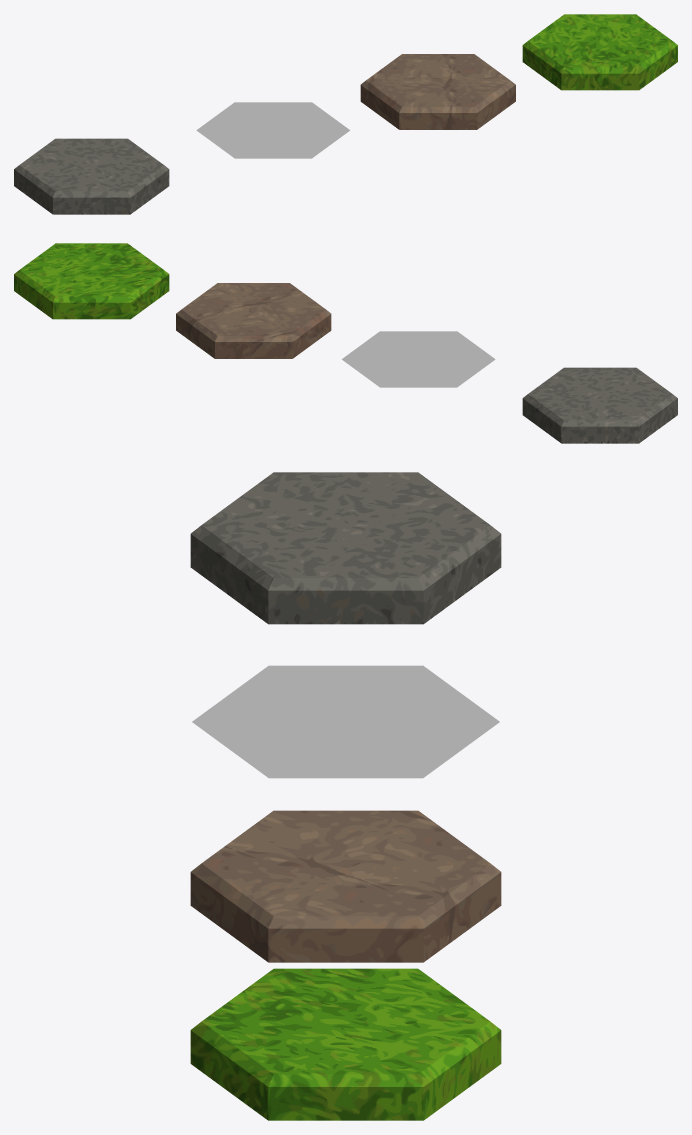
File: Hexagon Var 2 Atlas.fbx
3 renders of one model, top to bottom at view 1: azimuth 30°, elevation 25°; view 2: azimuth 150°, elevation 25°; view 3: azimuth 270°, elevation 25°, orthographic. The views are drawn at different scales.
Parts seen in each view (by area): view 1: H7, H8, H5, H6; view 2: H7, H8, H5, H6; view 3: H5, H7, H8, H6.
Part boxes in pixels (<box>): H7: <box>14,138,169,214</box>; H8: <box>522,14,677,90</box>; H5: <box>360,54,515,129</box>; H6: <box>196,102,349,158</box>; H7: <box>522,367,677,443</box>; H8: <box>14,243,169,319</box>; H5: <box>176,283,331,358</box>; H6: <box>342,331,495,387</box>; H5: <box>190,810,501,962</box>; H7: <box>190,472,501,624</box>; H8: <box>190,968,501,1120</box>; H6: <box>192,665,499,778</box>.
Size of the model in its own units: 929 by 30 by 200.
